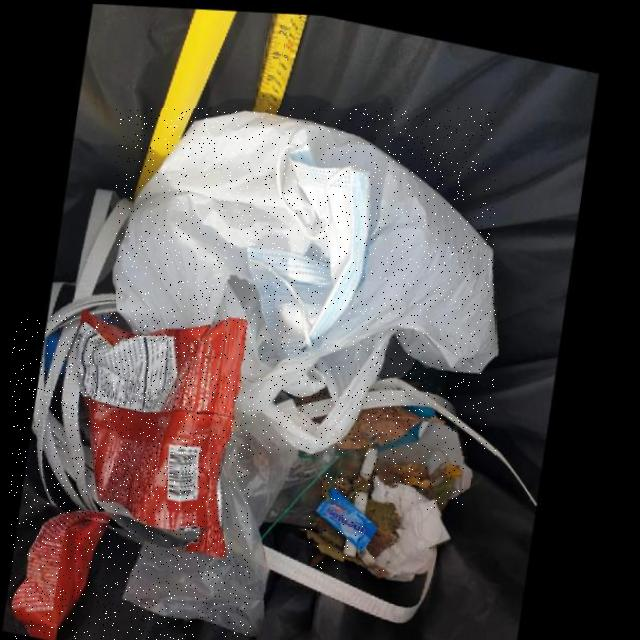biowaste: (304, 513, 390, 573), (338, 404, 444, 447), (367, 494, 406, 555), (419, 459, 464, 509), (374, 456, 442, 485), (322, 472, 373, 500)
plastic: (116, 108, 496, 455)
wrapper: (8, 313, 251, 640)
